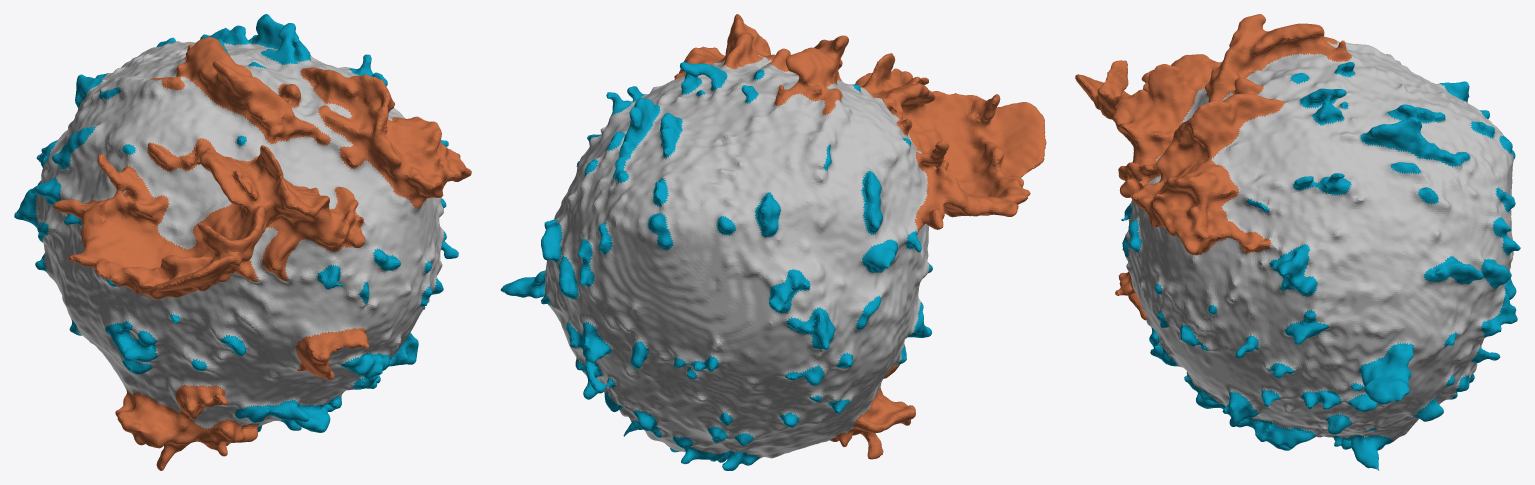
3 renders of one model, left to right at view 1: azimuth 30°, elevation 25°; view 2: azimuth 150°, elevation 25°; view 3: azimuth 270°, elevation 25°, orthographic. The views are drawn at different scales.
Bounding box in the file's own units: 181 × 164 × 166.
